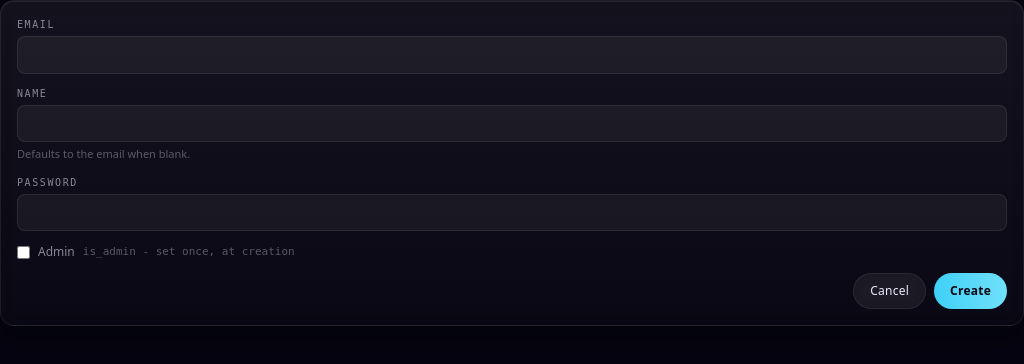
it: rejects a password under 8 characters without submitting
Type "new@studio.dev" into the field labelled "Email" at (512, 55), box [17,36,1007,74]
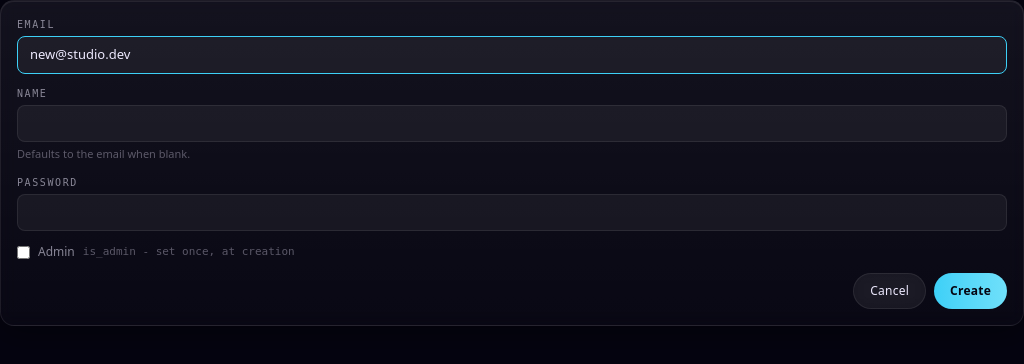
Type "short" into the password field labelled "Password" at (512, 212), box [17,194,1007,231]
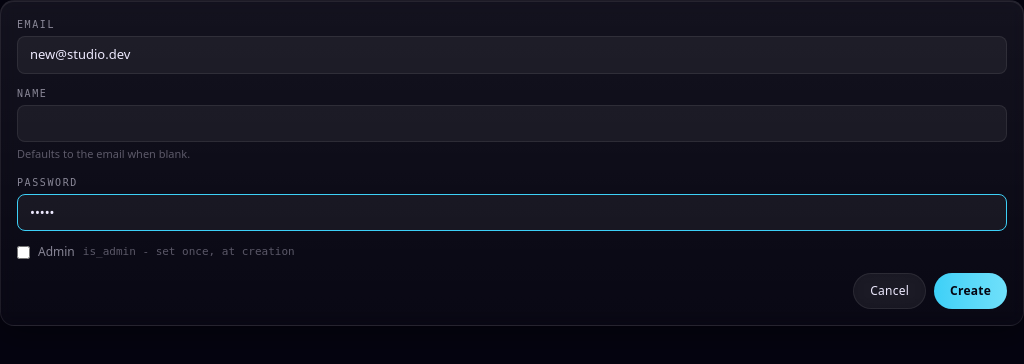
Click the button "Create" at (971, 291), box [934,273,1007,309]
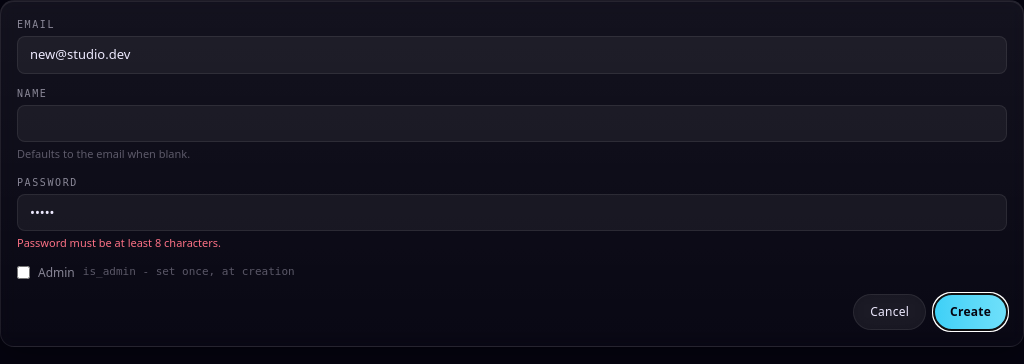
Expected: the text "Password must be at least 8 characters." is shown, [17,235,221,250]
